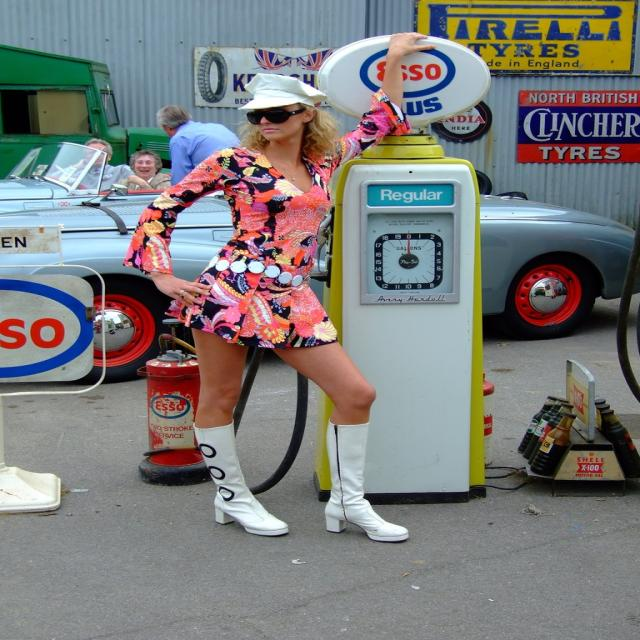esso: (2, 276, 95, 384), (355, 48, 464, 100), (150, 392, 192, 422)
